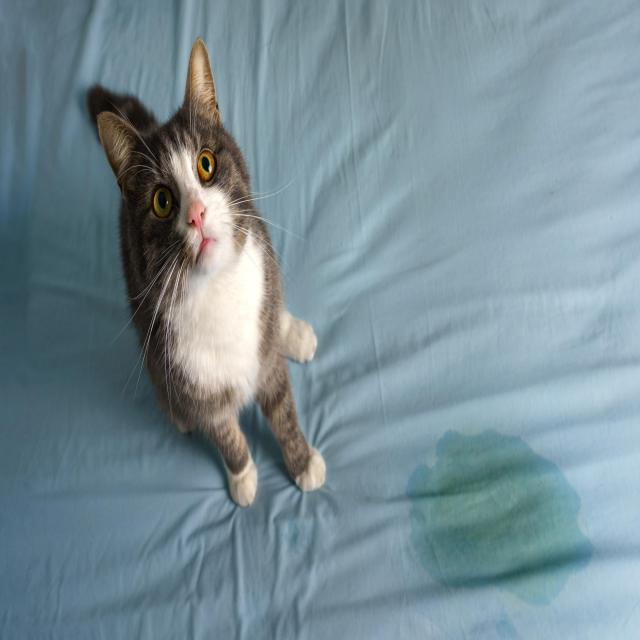Cat: (88, 30, 260, 315)
